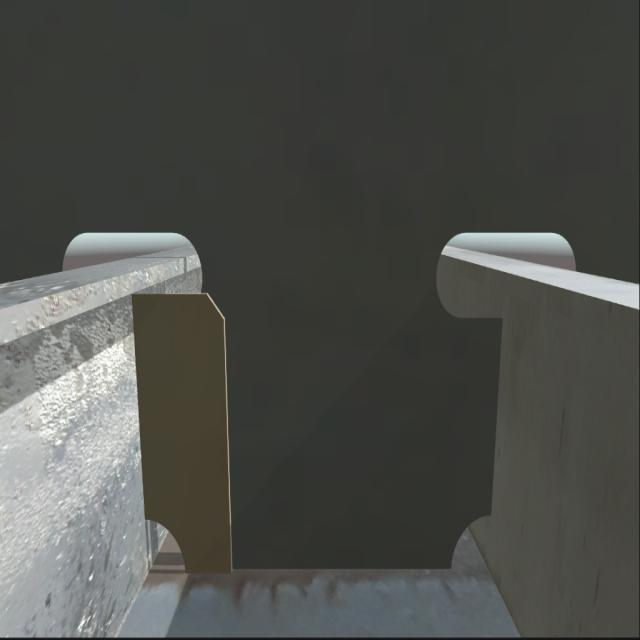fillet_hole: (450, 516, 493, 572), (146, 522, 182, 570)
fillet_yong_jeop_jang: (170, 556, 458, 576)
longi_yong_jeop_jang: (485, 313, 509, 524), (133, 286, 146, 518)
plate_CP03: (142, 292, 231, 572)
